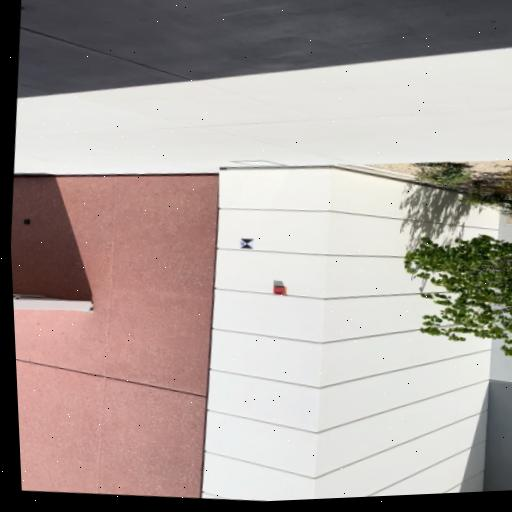target6: (239, 238, 255, 249)
